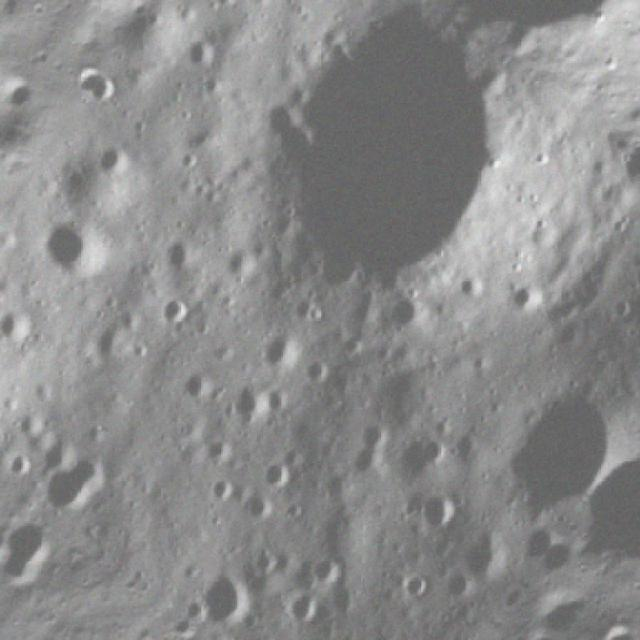crater: (191, 0, 574, 365), (486, 372, 639, 533), (21, 433, 116, 530), (25, 207, 118, 298), (178, 560, 262, 640), (216, 378, 284, 447), (402, 478, 468, 544), (248, 322, 312, 388), (170, 23, 233, 88), (452, 529, 514, 589), (86, 133, 142, 190), (338, 438, 394, 493), (374, 289, 428, 345), (276, 582, 330, 636), (143, 286, 197, 340), (439, 424, 492, 476), (148, 232, 201, 283), (0, 296, 43, 358), (302, 547, 352, 598), (500, 276, 551, 326), (232, 489, 282, 540), (170, 360, 218, 409), (430, 565, 478, 612), (517, 518, 561, 568), (296, 349, 342, 396), (392, 562, 438, 608), (410, 432, 456, 478), (352, 413, 398, 458), (254, 456, 298, 501), (200, 472, 242, 513), (0, 442, 37, 486), (626, 326, 640, 380), (0, 267, 6, 308), (170, 0, 218, 3)
